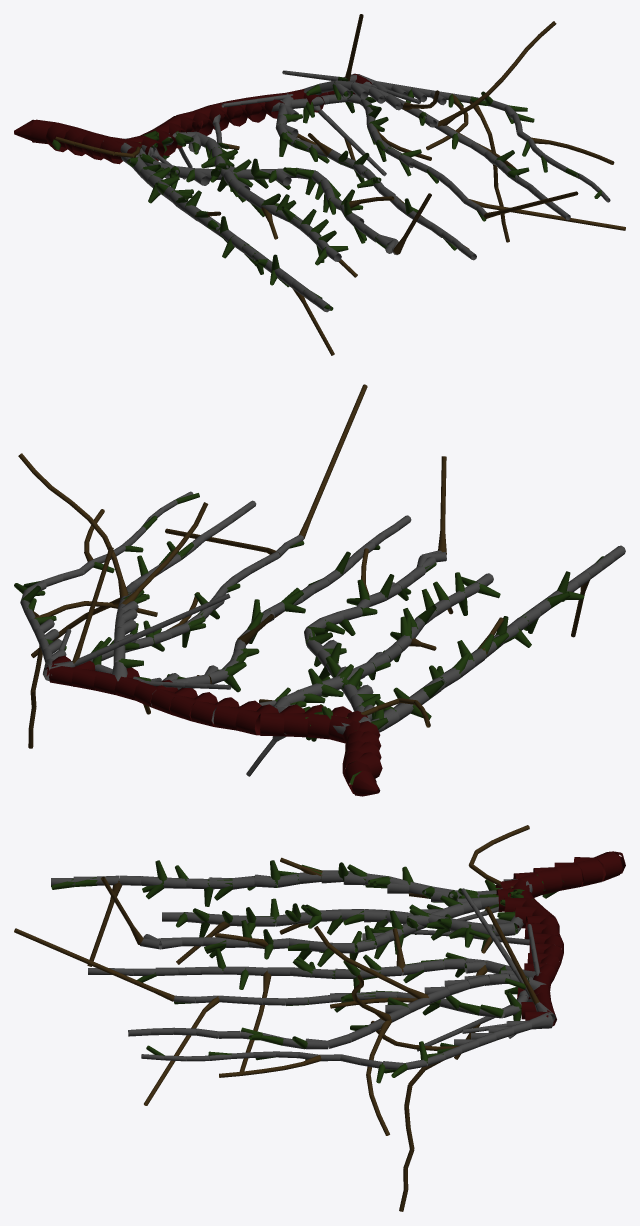
The model's file is tree_7.obj.
3 views of the same model, one above another, from view 1: azimuth 30°, elevation 25°; view 2: azimuth 150°, elevation 25°; view 3: azimuth 270°, elevation 25° (orthographic). The views are drawn at different scales.
Bounding box in the file's own units: 23.68 × 12.17 × 26.89.
